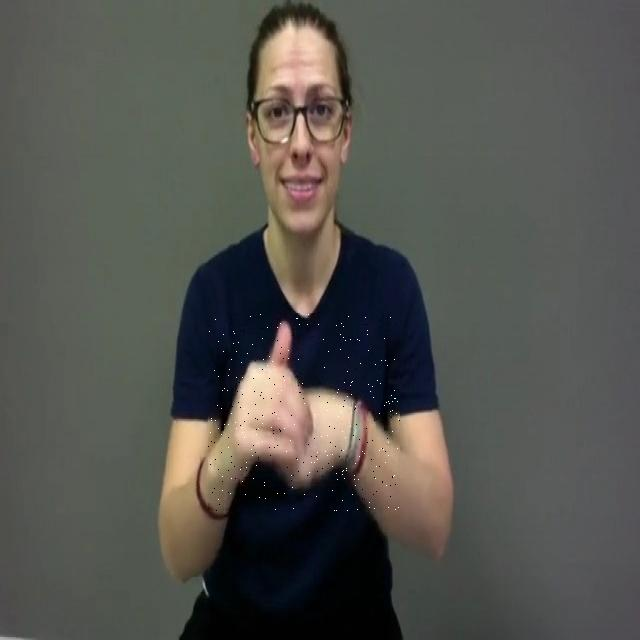bread: (208, 314, 400, 512)
